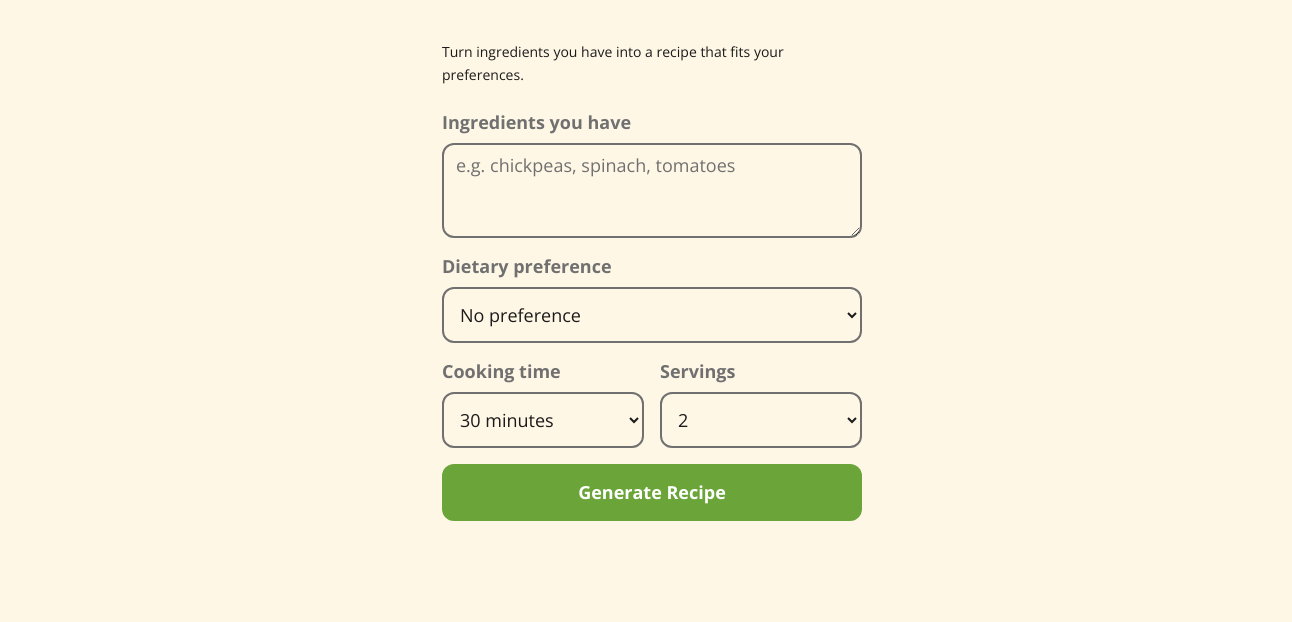
uses a distinct ingredients/preferences request and lets guests review the recipe
Type "chickpeas, spinach" into the text box labelled "Ingredients you have".
click(652, 191); type("chickpeas, spinach")  # box [442,143,862,238]
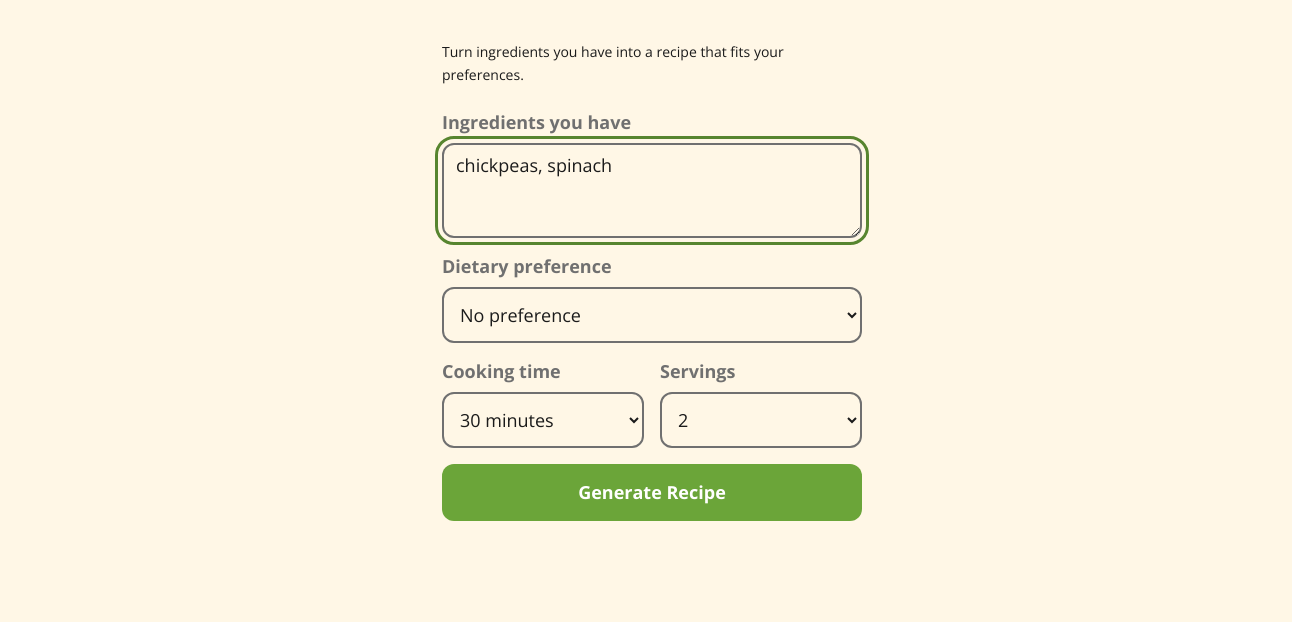
Select "Vegan" in the dropdown labelled "Dietary preference" at (652, 315), box [442,287,862,343]
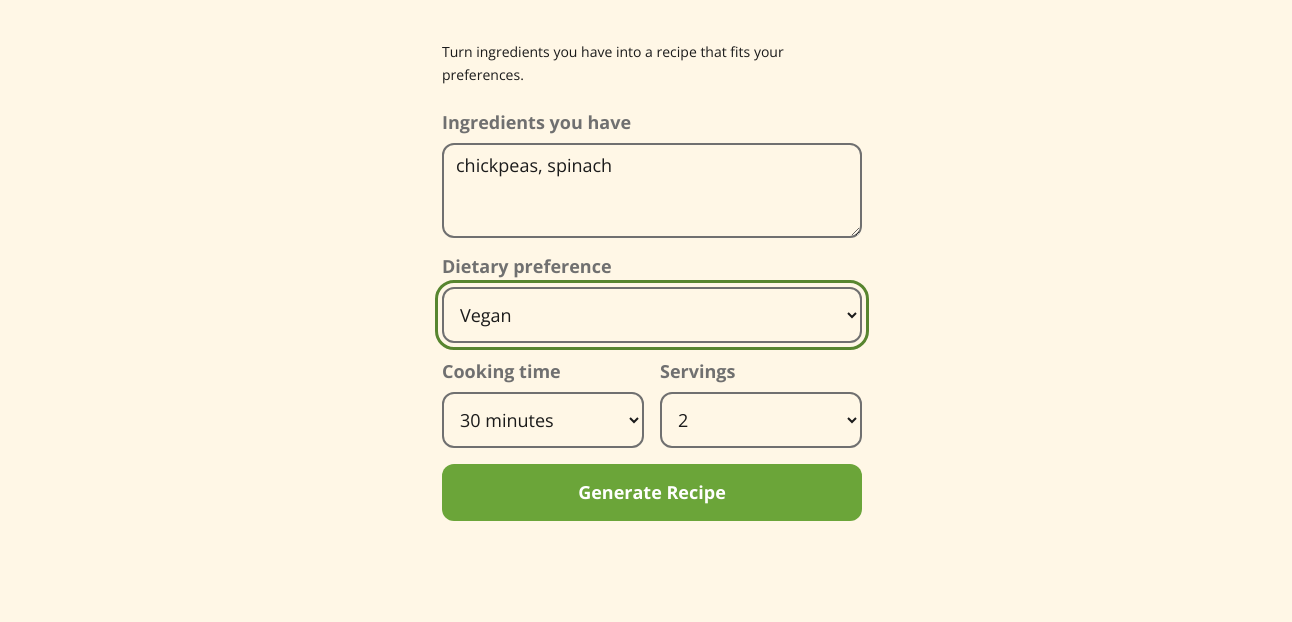
Select "15 minutes" in the dropdown labelled "Cooking time" at (543, 420), box [442,392,644,448]
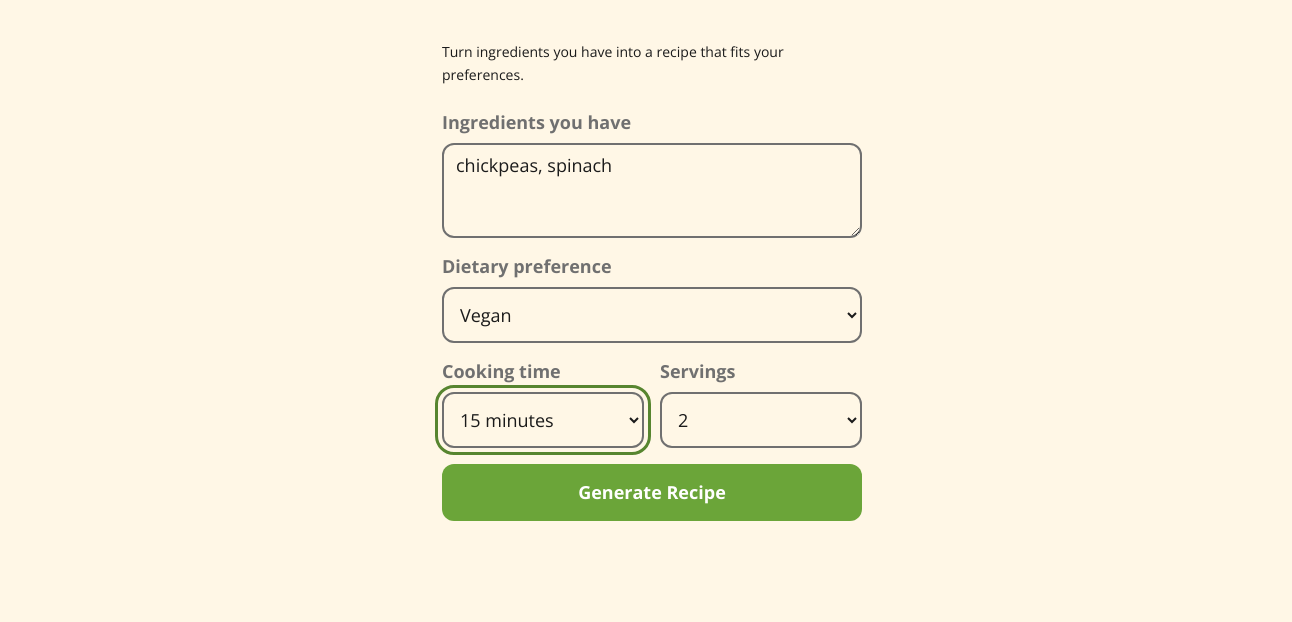
Click the button "Generate Recipe".
click(652, 493)  # box [442,464,862,521]
(page scrolled)
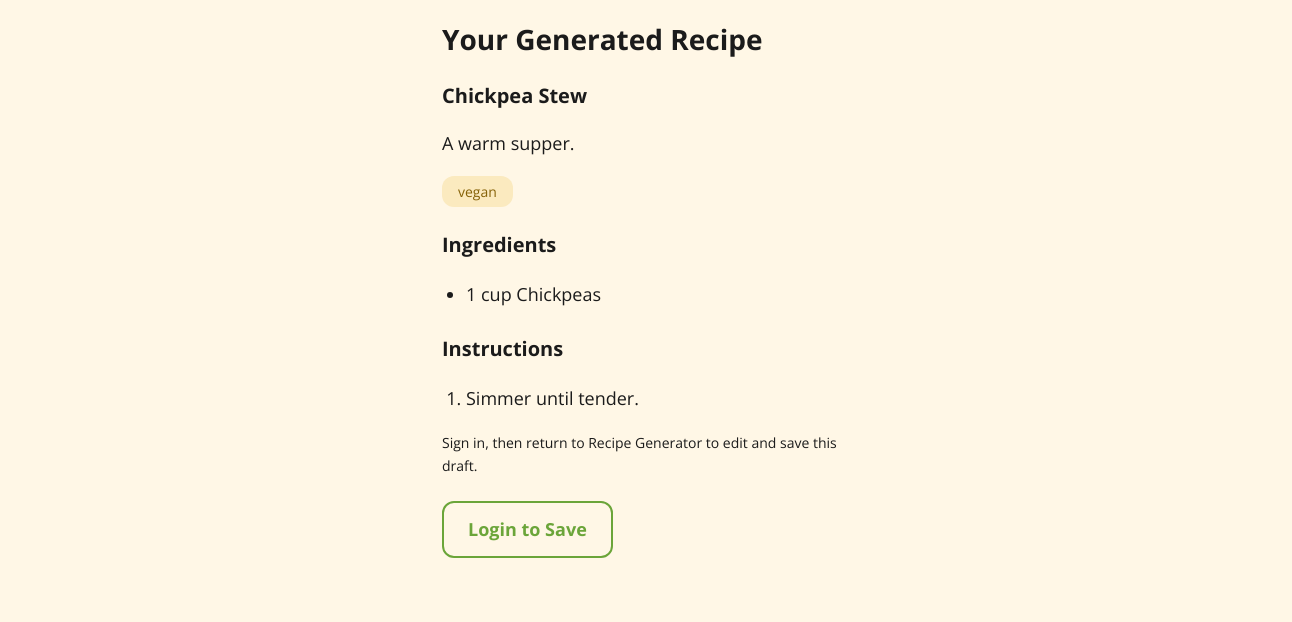
Expected: the heading "Chickpea Stew" is shown, [442,82,587,109]
Expected: the link "Login to Save" is shown, [442,501,613,558]
